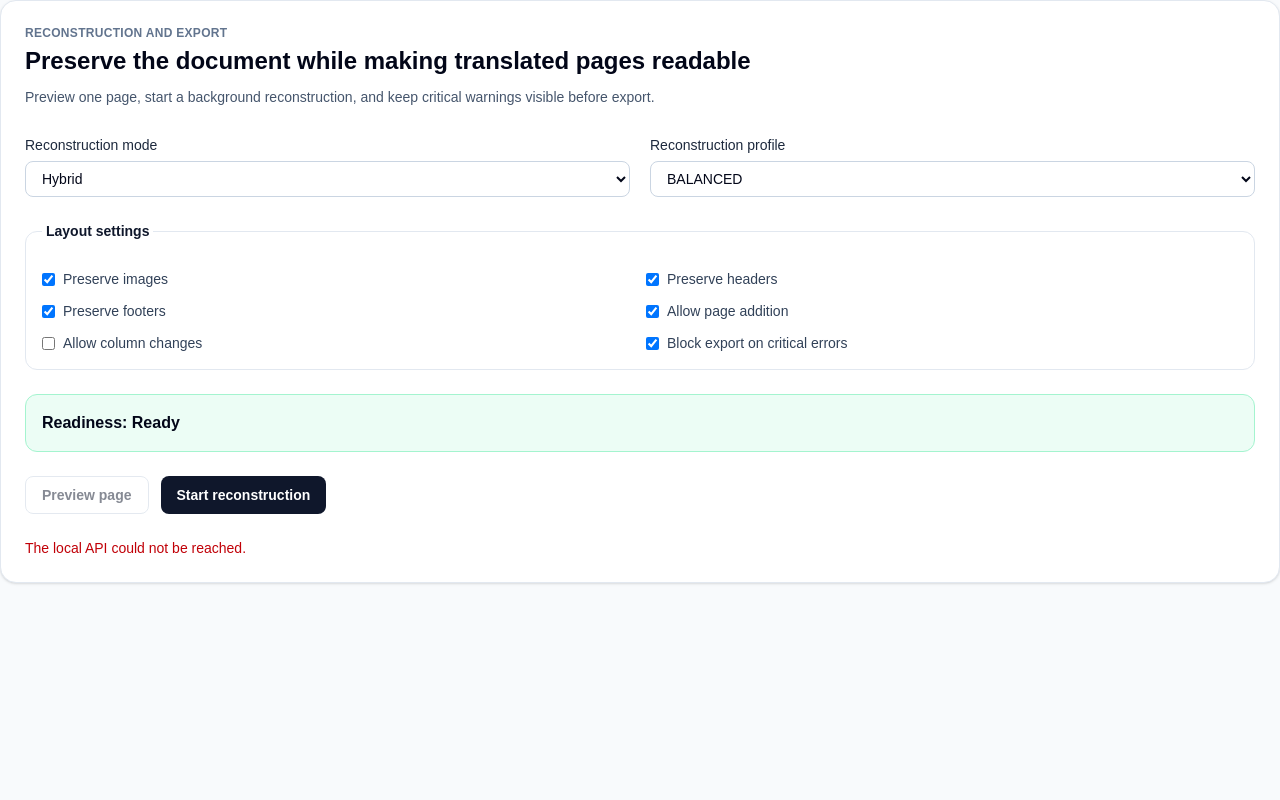
Test: reconstruction workspace › refreshes persisted progress after a completed result is reused
Click the button "Start reconstruction" at (243, 495), box [160,476,326,514]
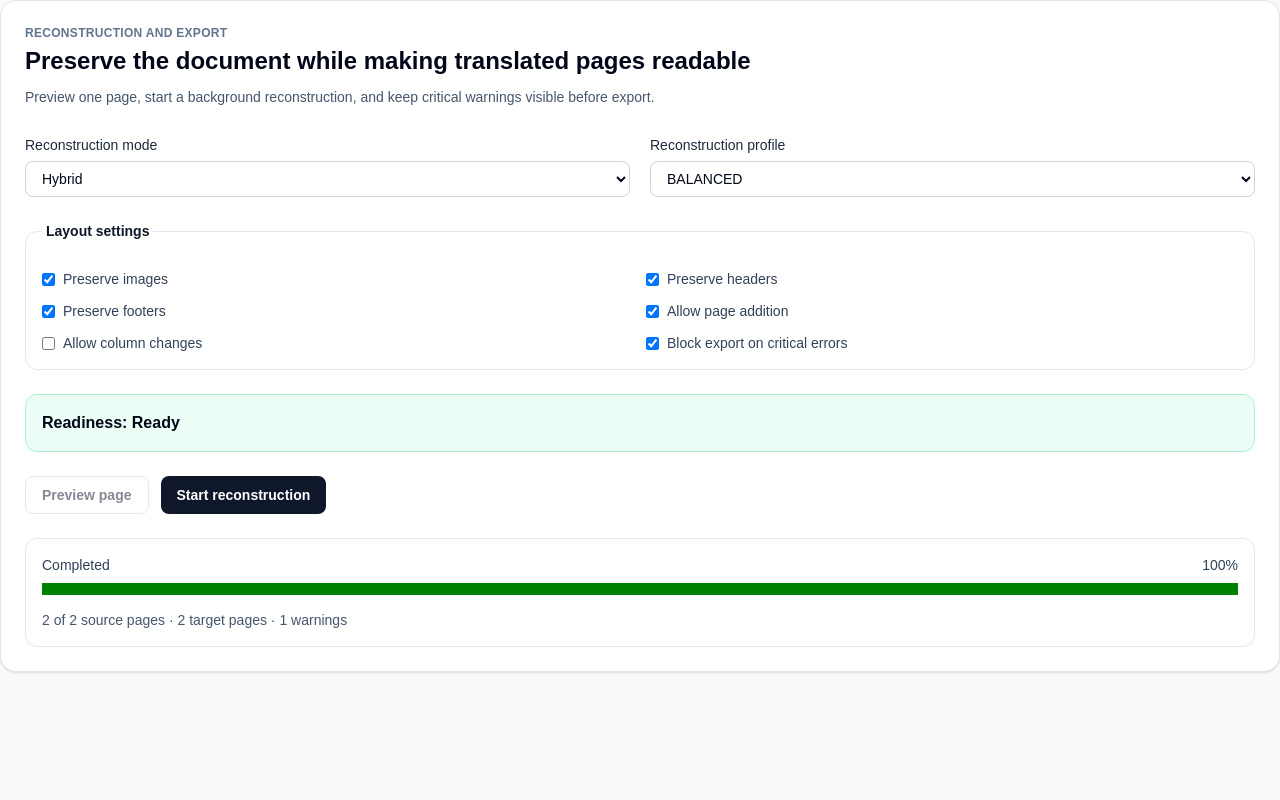
Check: the text "Completed" is shown, box [42,555,110,575]
Check: the text "100%" is shown, box [1202,555,1238,575]
Check: the text "2 of 2 source pages · 2 target pages · 1 warnings" is shown, box [42,612,347,628]
